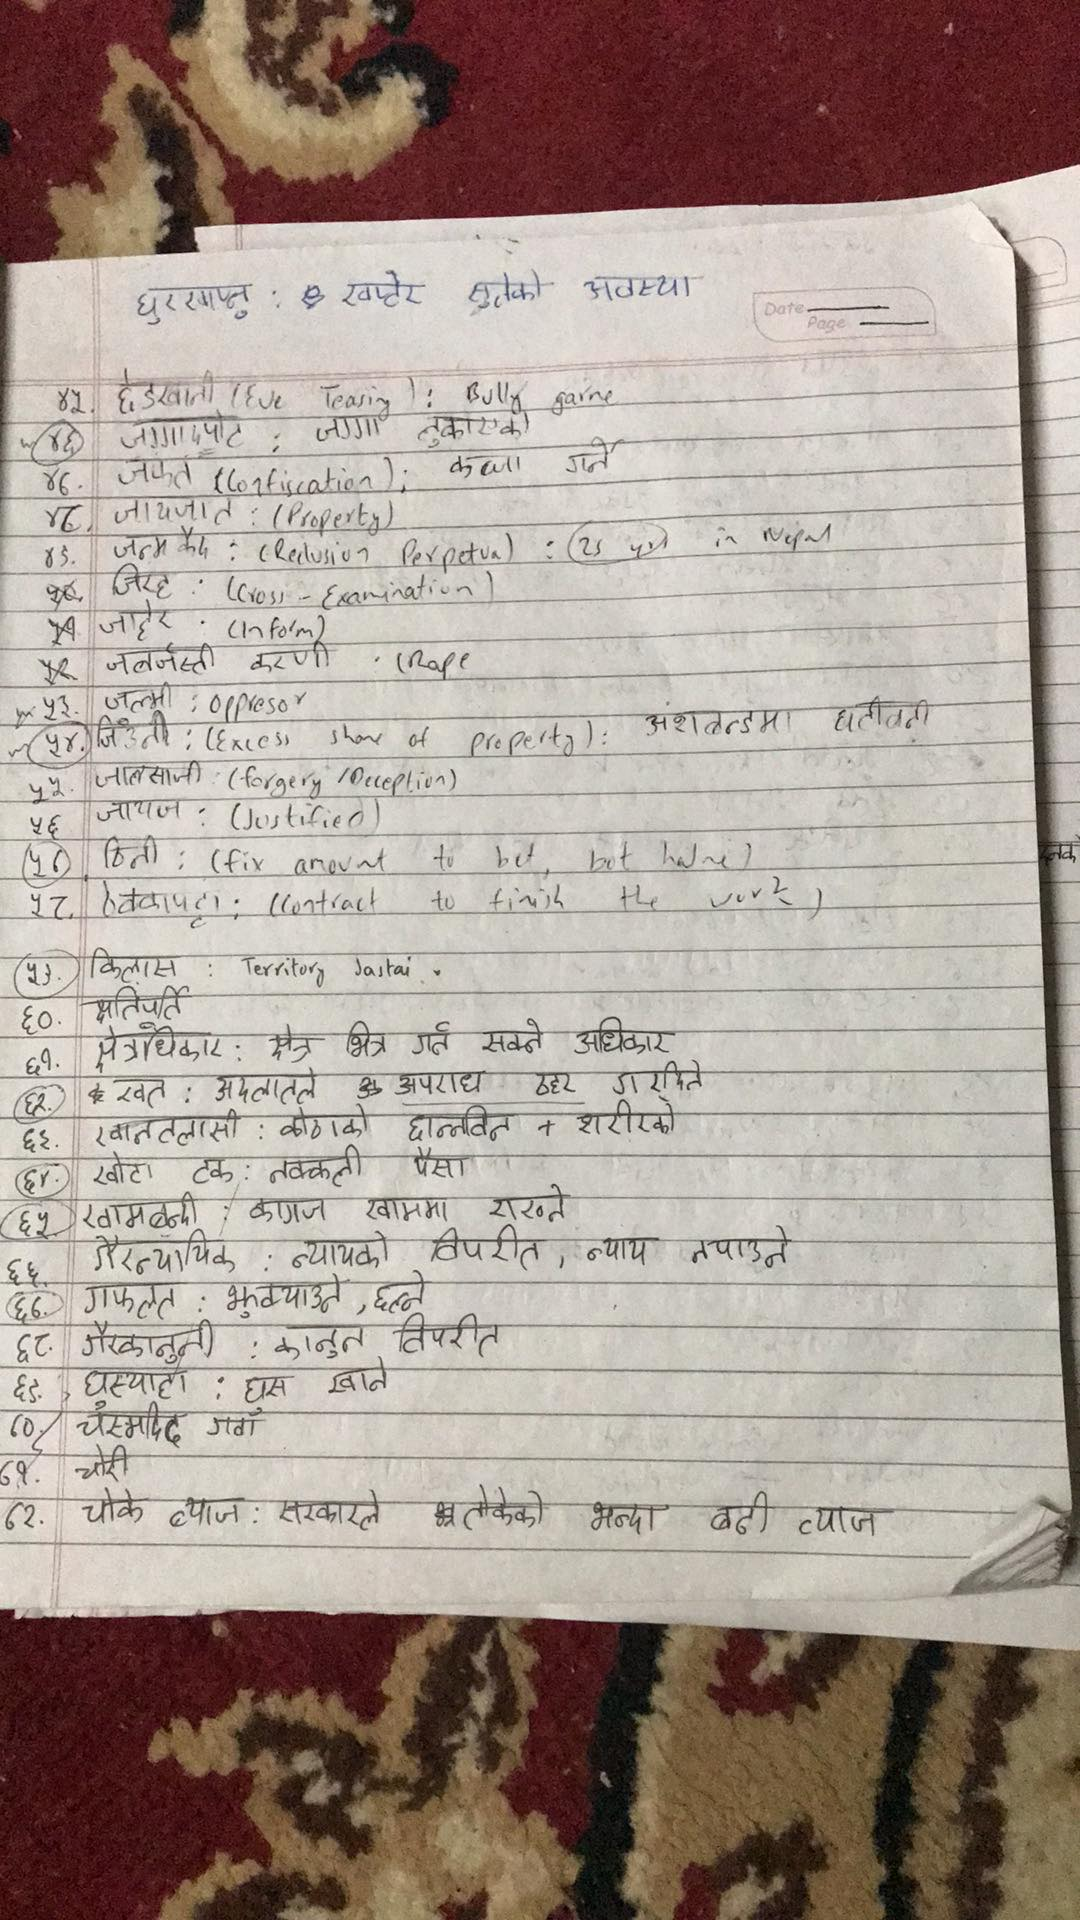text: (92, 877, 224, 931), (88, 1023, 228, 1071), (80, 1233, 241, 1273), (94, 1108, 247, 1149), (423, 1221, 545, 1273), (219, 1275, 348, 1321), (415, 400, 535, 448), (272, 1484, 386, 1534), (641, 703, 796, 740), (79, 1323, 215, 1365), (135, 281, 253, 324), (112, 367, 216, 415), (688, 1220, 791, 1269), (116, 415, 252, 452), (571, 1095, 682, 1139), (404, 1102, 520, 1143), (80, 1193, 204, 1232), (79, 1403, 185, 1448), (105, 491, 248, 524), (76, 1280, 189, 1321), (396, 1315, 506, 1356), (575, 1015, 675, 1060), (103, 641, 219, 679), (266, 1145, 365, 1189), (831, 696, 938, 737), (287, 1232, 392, 1273), (273, 1315, 368, 1360), (211, 1067, 324, 1104), (80, 1367, 191, 1404), (456, 1484, 547, 1528), (793, 1501, 884, 1544), (87, 945, 189, 984), (481, 1182, 568, 1225), (339, 268, 423, 313), (272, 1105, 371, 1143), (611, 1056, 705, 1096), (84, 984, 185, 1021), (467, 268, 549, 313), (113, 529, 216, 564), (388, 1065, 495, 1100), (320, 1350, 389, 1402), (707, 1487, 777, 1538), (112, 452, 196, 493), (582, 272, 700, 301), (92, 760, 208, 789), (165, 1491, 243, 1532), (587, 1497, 665, 1538), (239, 645, 339, 676), (95, 713, 175, 752), (100, 599, 175, 640), (364, 1192, 452, 1226), (560, 433, 622, 480), (92, 796, 189, 827), (480, 1015, 545, 1060), (243, 1196, 334, 1228), (98, 832, 164, 876), (88, 1151, 157, 1192), (313, 411, 386, 448), (447, 451, 524, 487), (79, 1485, 148, 1524), (105, 1071, 171, 1112), (583, 1232, 655, 1267), (107, 563, 177, 600), (96, 680, 175, 712), (75, 1441, 133, 1484), (409, 1145, 469, 1184), (345, 1015, 392, 1065), (368, 1276, 433, 1312), (264, 1025, 320, 1064), (407, 1021, 460, 1059), (527, 1067, 578, 1102), (241, 1369, 291, 1404), (15, 1208, 61, 1245), (199, 1416, 262, 1443), (190, 1153, 235, 1189), (25, 887, 69, 924), (15, 1001, 57, 1036), (41, 498, 79, 535), (41, 725, 80, 761), (4, 1255, 44, 1291), (9, 1291, 47, 1327), (36, 465, 75, 500), (26, 848, 67, 881), (26, 774, 69, 806), (37, 541, 80, 571), (24, 811, 65, 843), (12, 1331, 49, 1365), (9, 1371, 44, 1407), (51, 384, 88, 417), (45, 427, 80, 459), (18, 1163, 53, 1195), (22, 959, 53, 992), (18, 1089, 51, 1120), (22, 1044, 53, 1076), (17, 1125, 51, 1153), (36, 692, 71, 719)
